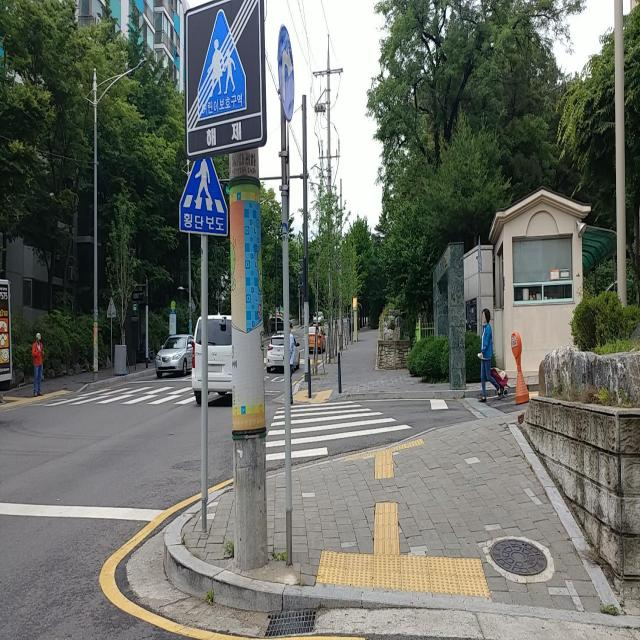횡단보도: (264, 399, 412, 463), (44, 385, 206, 409)
